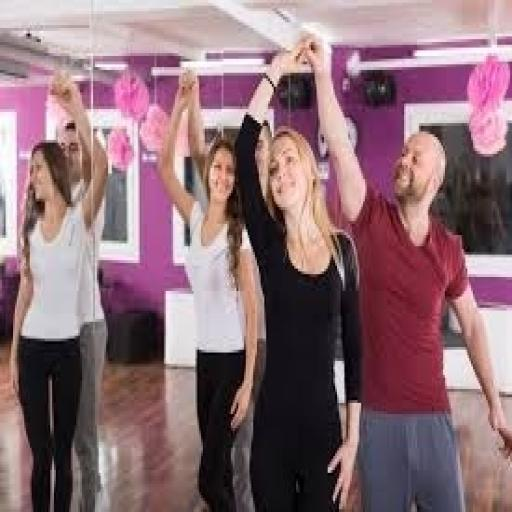dancing: (296, 28, 510, 509), (233, 34, 367, 509), (154, 64, 264, 510), (9, 70, 112, 509)
